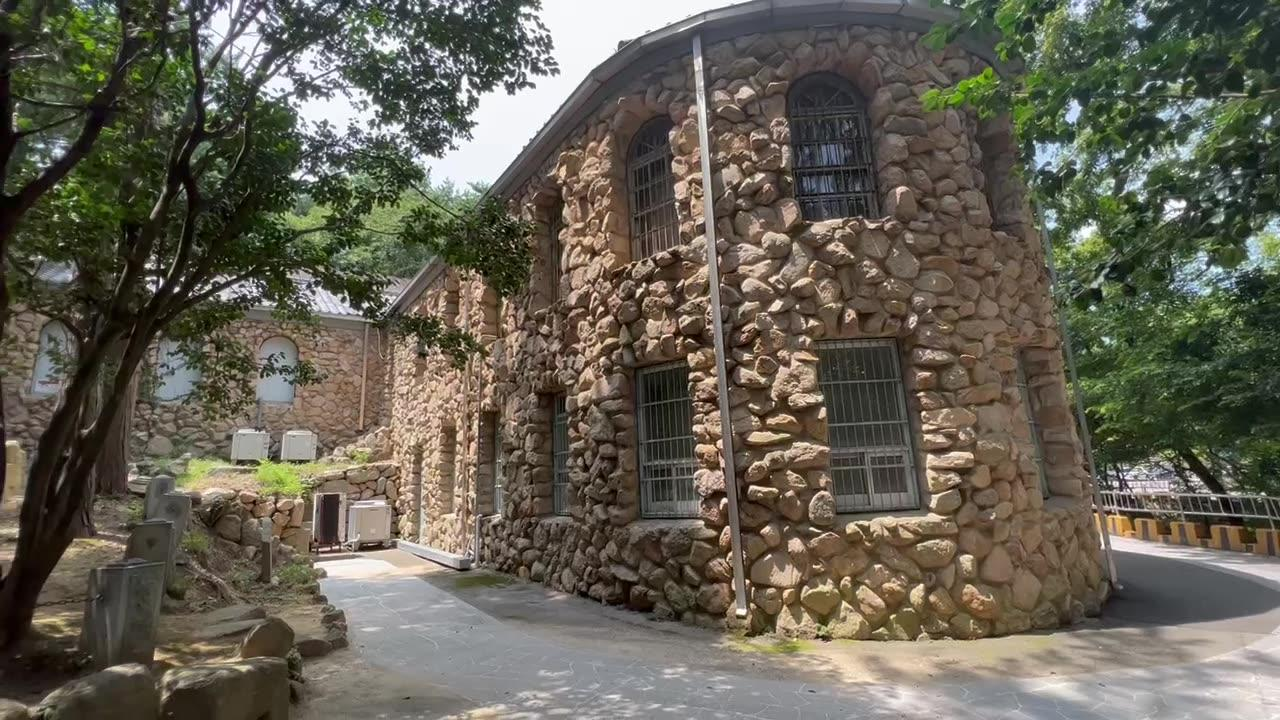building: (431, 51, 1096, 633)
